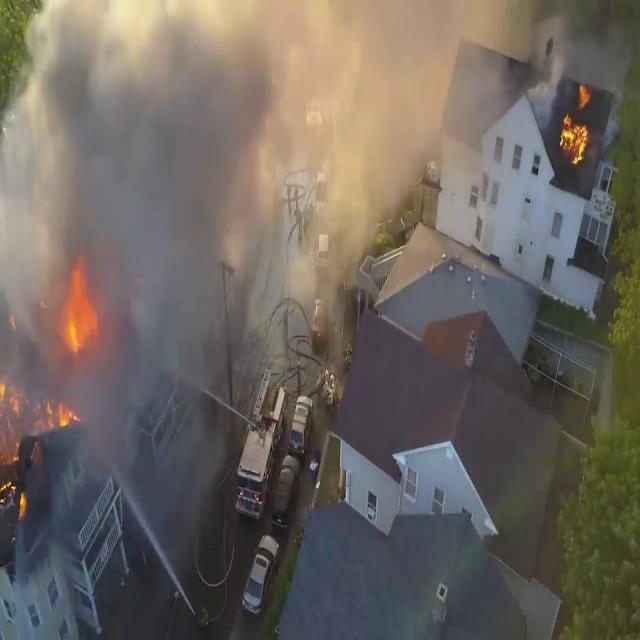Fire: (61, 250, 98, 358), (558, 80, 594, 168)
Smoke: (0, 0, 356, 466)
